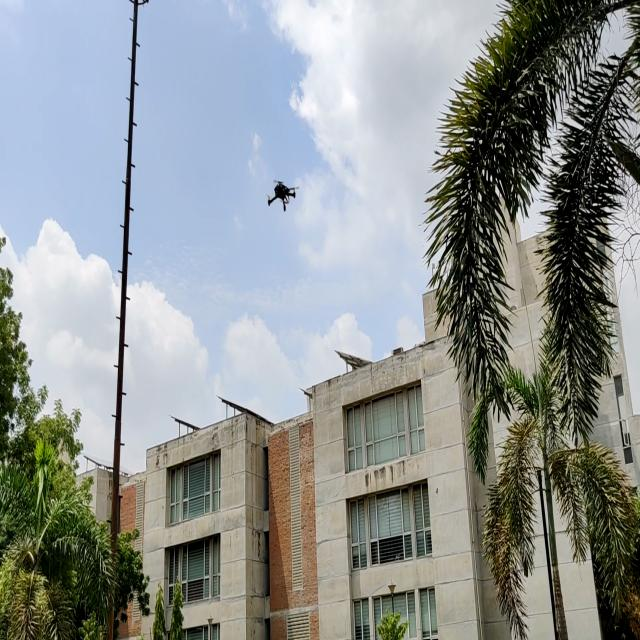drone: (251, 167, 307, 216)
